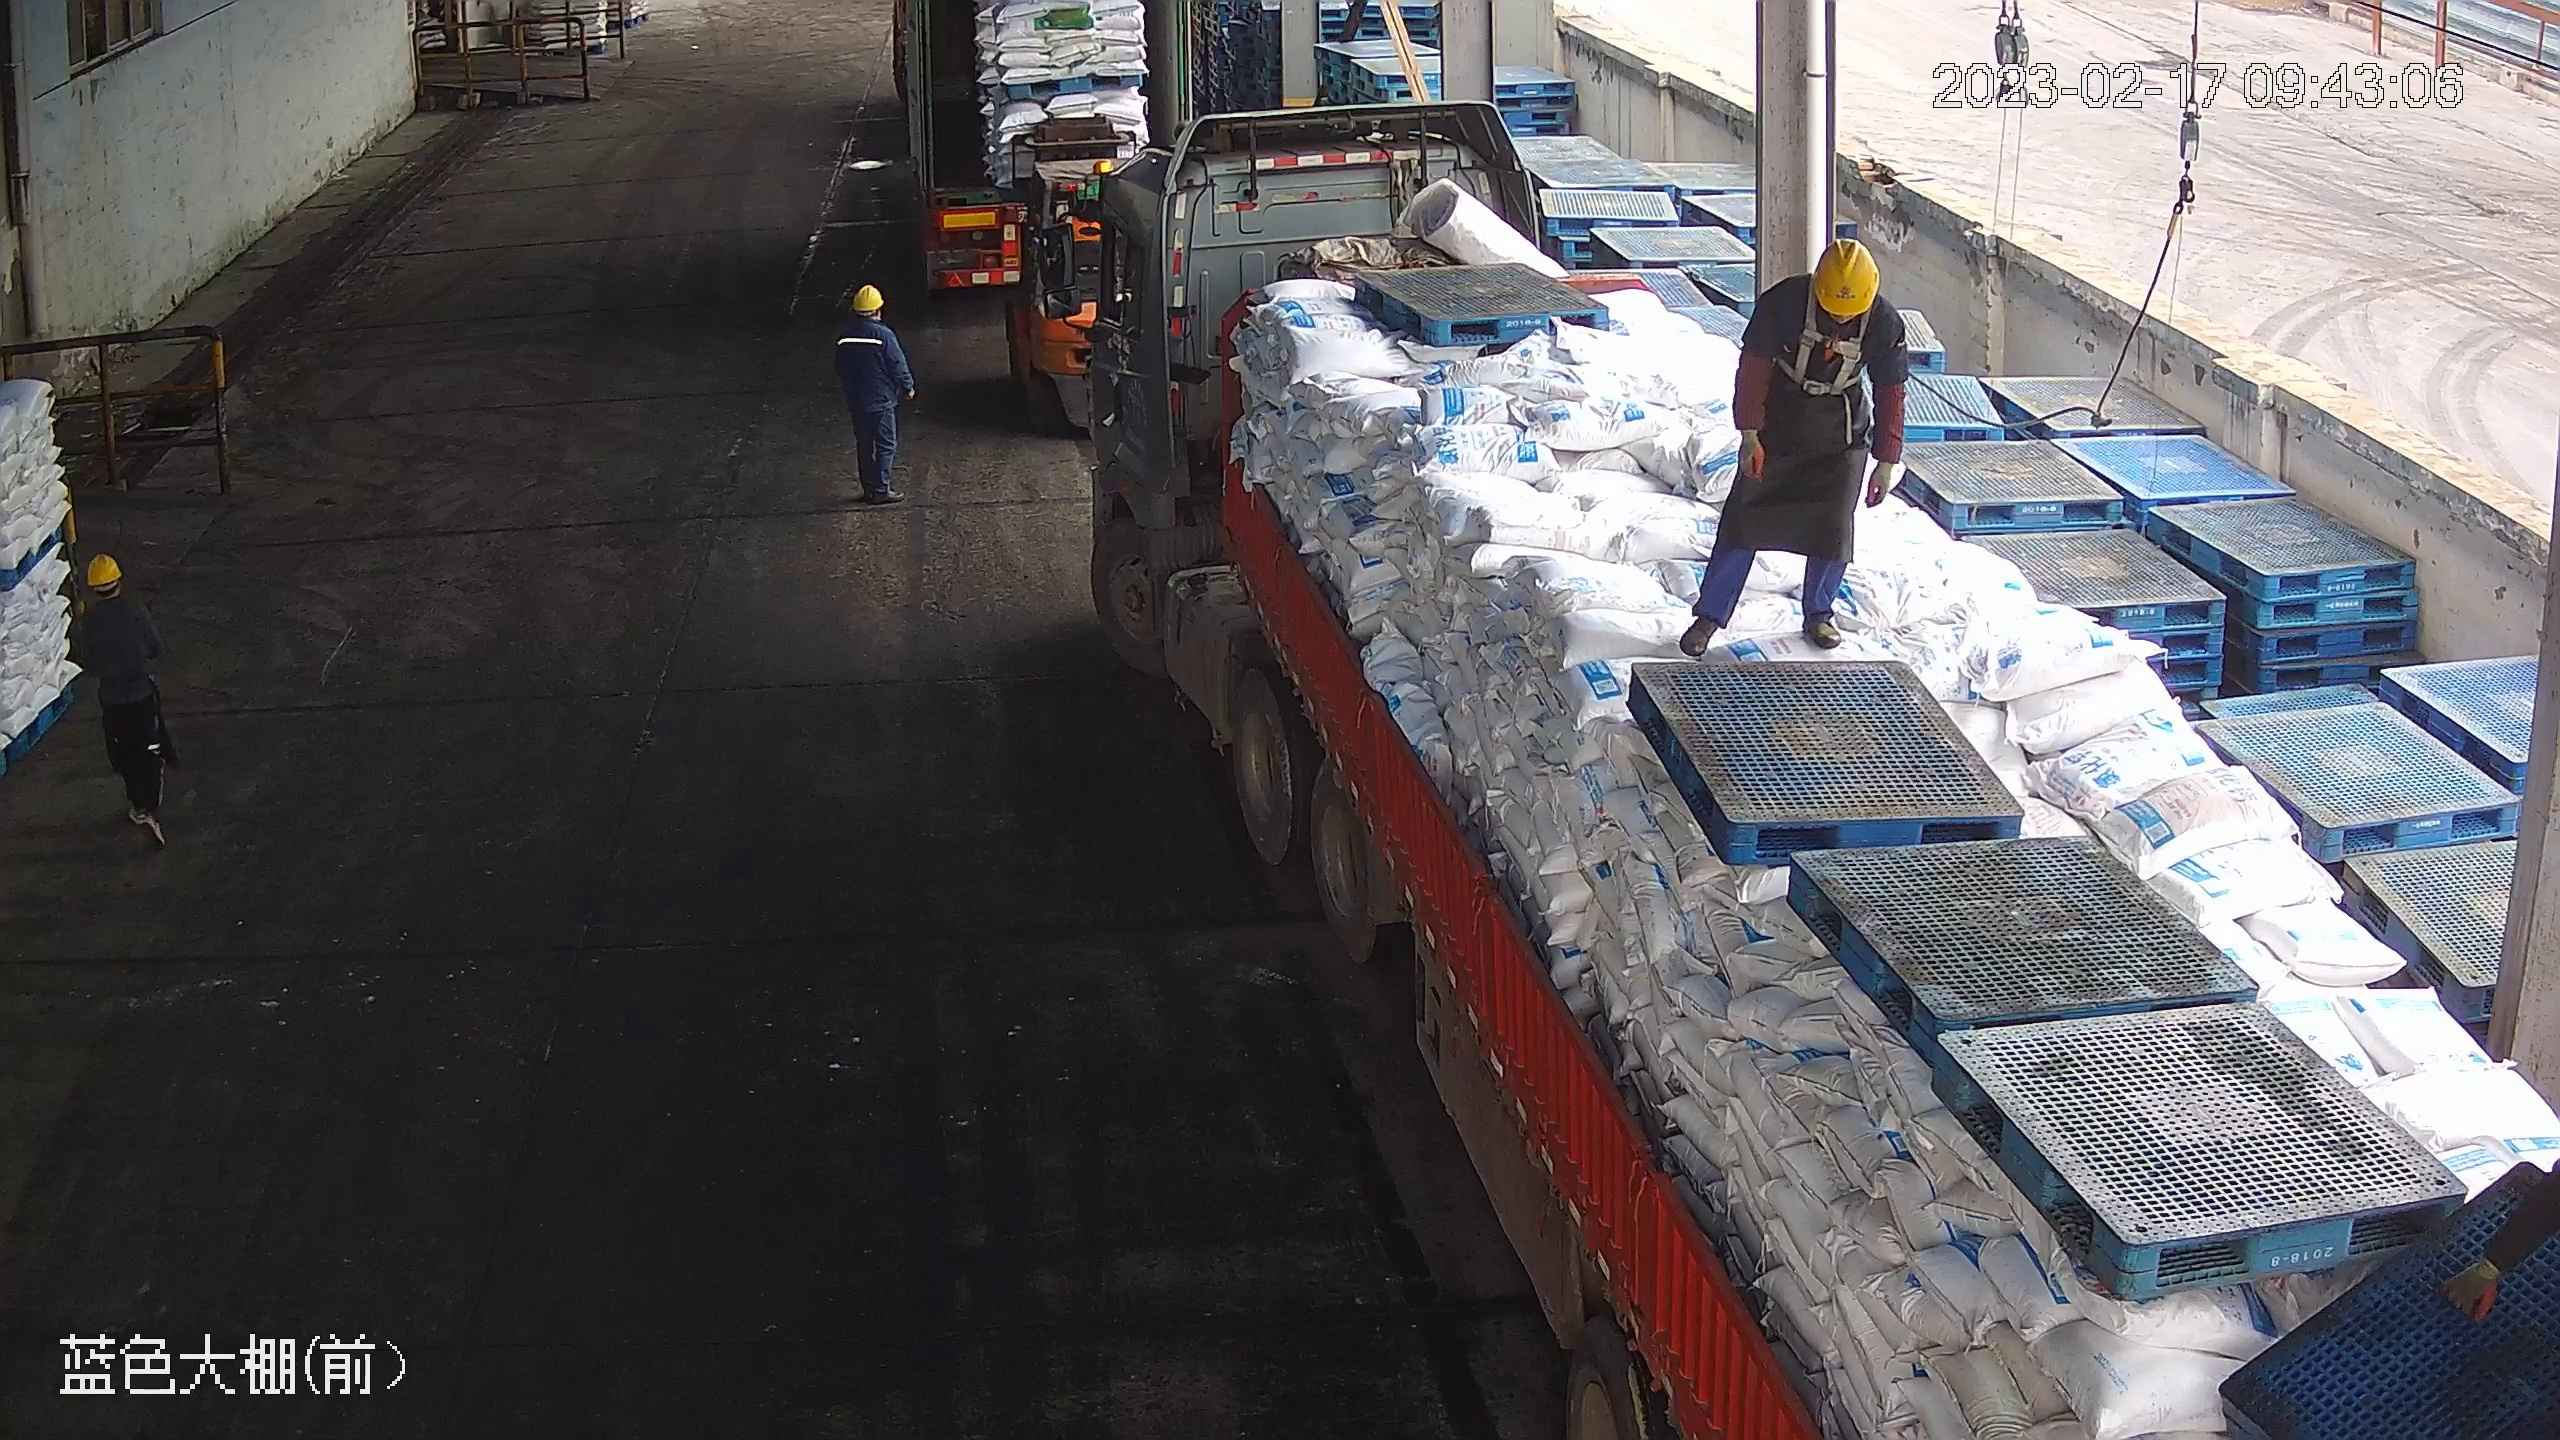belt: (1788, 291, 1866, 396)
head: (1742, 234, 1905, 360), (72, 555, 156, 644), (831, 282, 898, 346)
helmet: (1810, 234, 1881, 322), (82, 552, 122, 588), (848, 282, 884, 312)
people: (1677, 233, 1911, 657), (68, 549, 181, 847), (829, 280, 917, 506)
truck: (1092, 100, 2556, 1440), (889, 2, 1185, 292)
